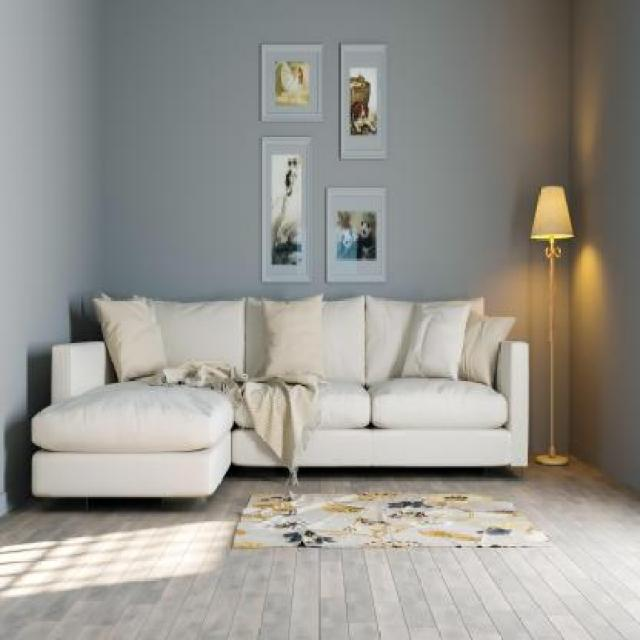Floor: (289, 453, 640, 640), (0, 463, 305, 640)
